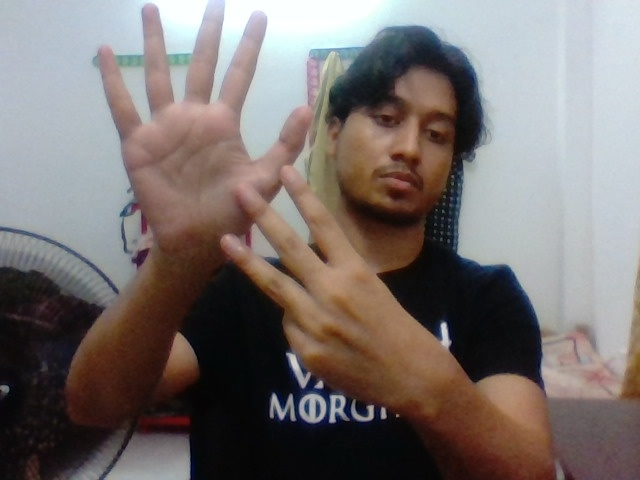M: (56, 5, 357, 334)
